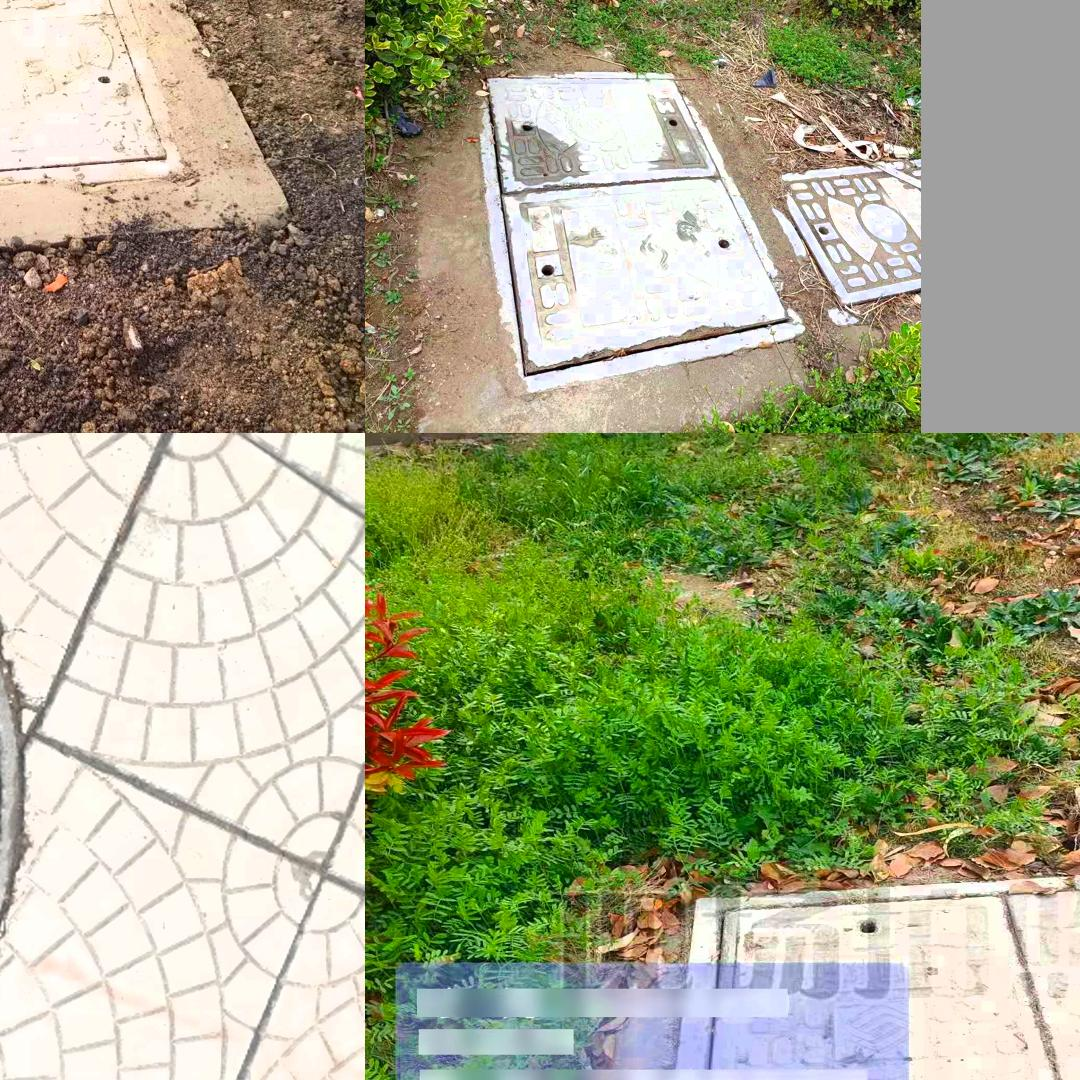good: (475, 72, 803, 393), (653, 861, 1080, 1080), (0, 0, 186, 186), (766, 155, 921, 323), (0, 434, 24, 1080)
